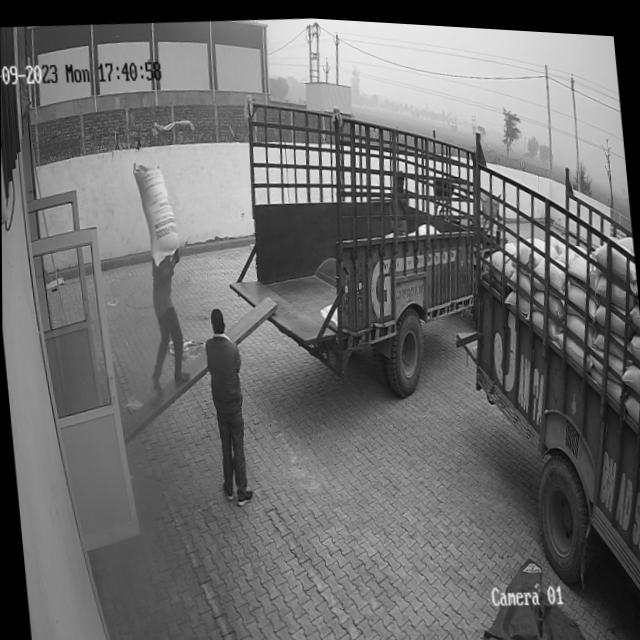sack: (131, 155, 179, 265)
